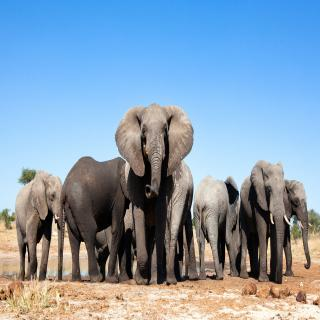Elephant: (114, 103, 194, 291), (238, 157, 286, 285), (14, 167, 64, 285), (193, 170, 240, 282), (284, 172, 314, 276)
